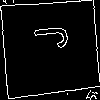J: (25, 23, 68, 52)
